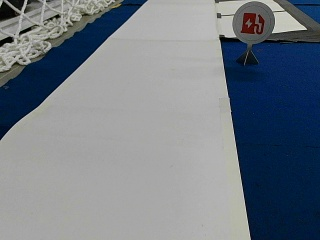battery: (232, 0, 274, 44)
